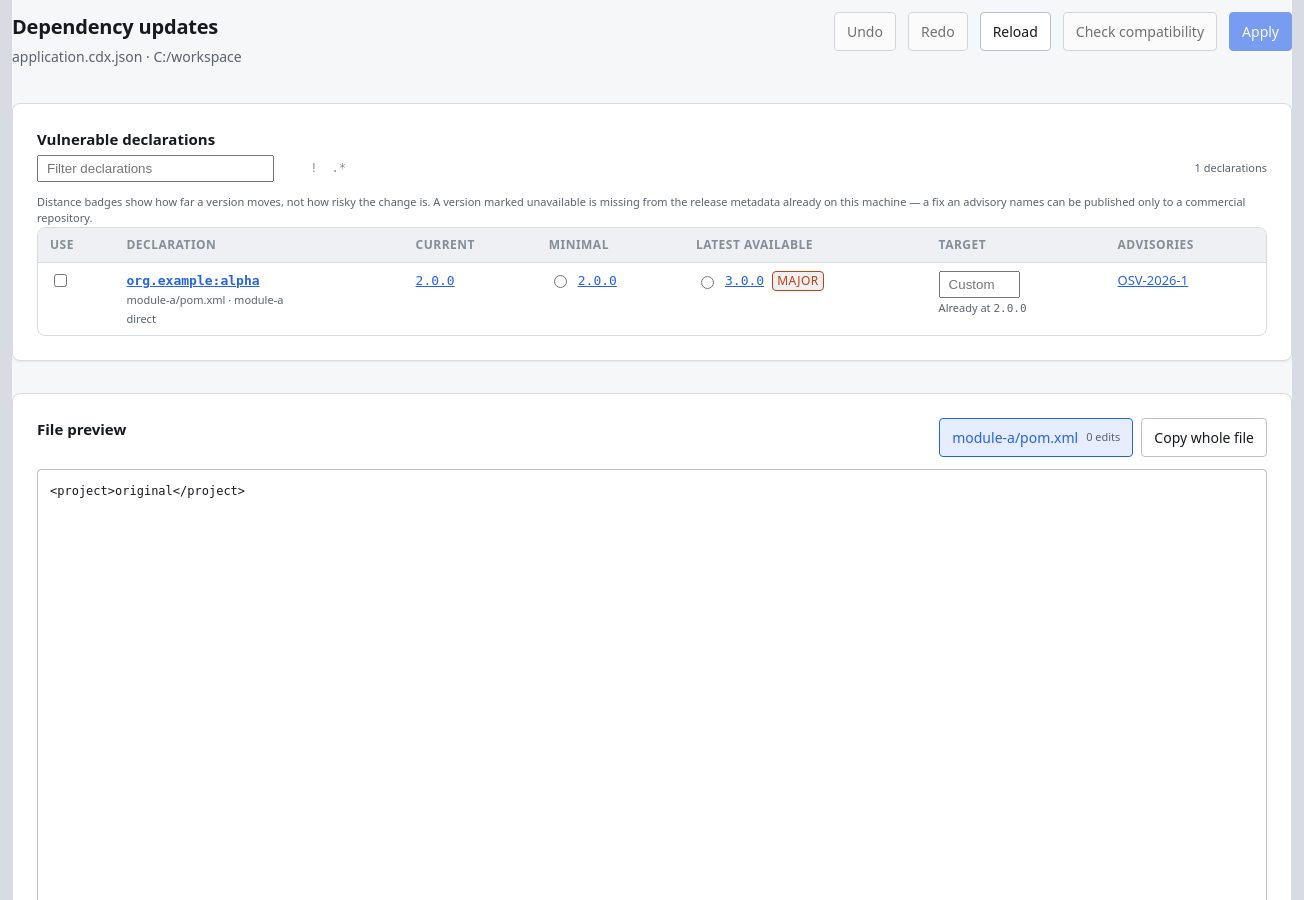
Test case: BumpPage › enables compatibility checking only when an edit is selected
Expected: the button "Check compatibility" is disabled, [1063, 12, 1217, 51]
Click the checkbox named "Select org.example:alpha". click: (60, 280)
box: [54, 274, 67, 286]
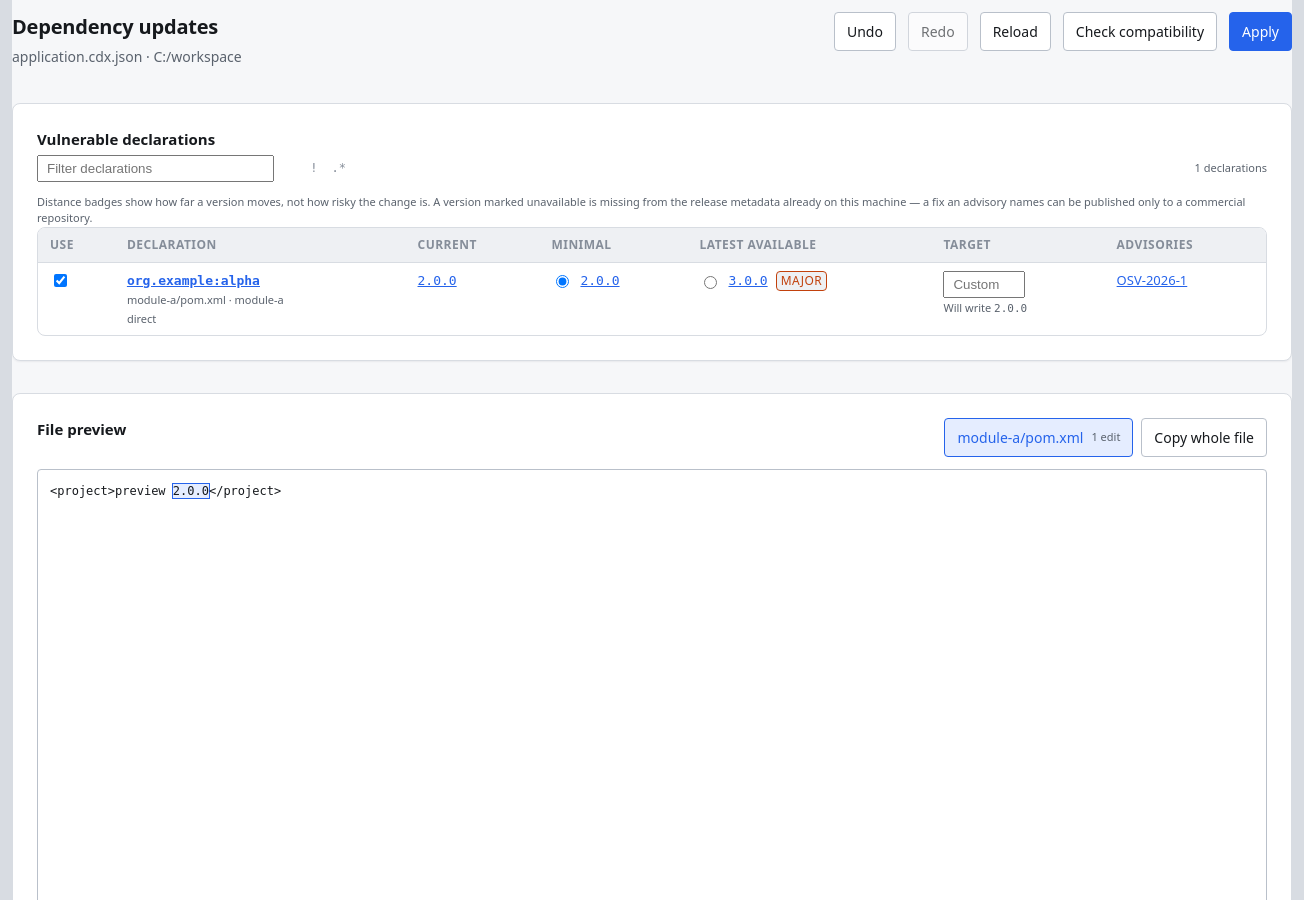
Expected: the button "Check compatibility" is enabled, [1063, 12, 1217, 51]
